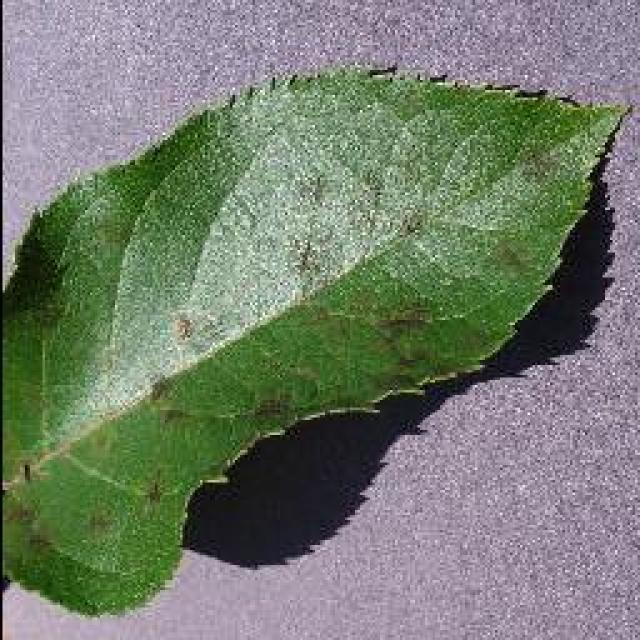apple scab disease: (0, 62, 632, 617)
